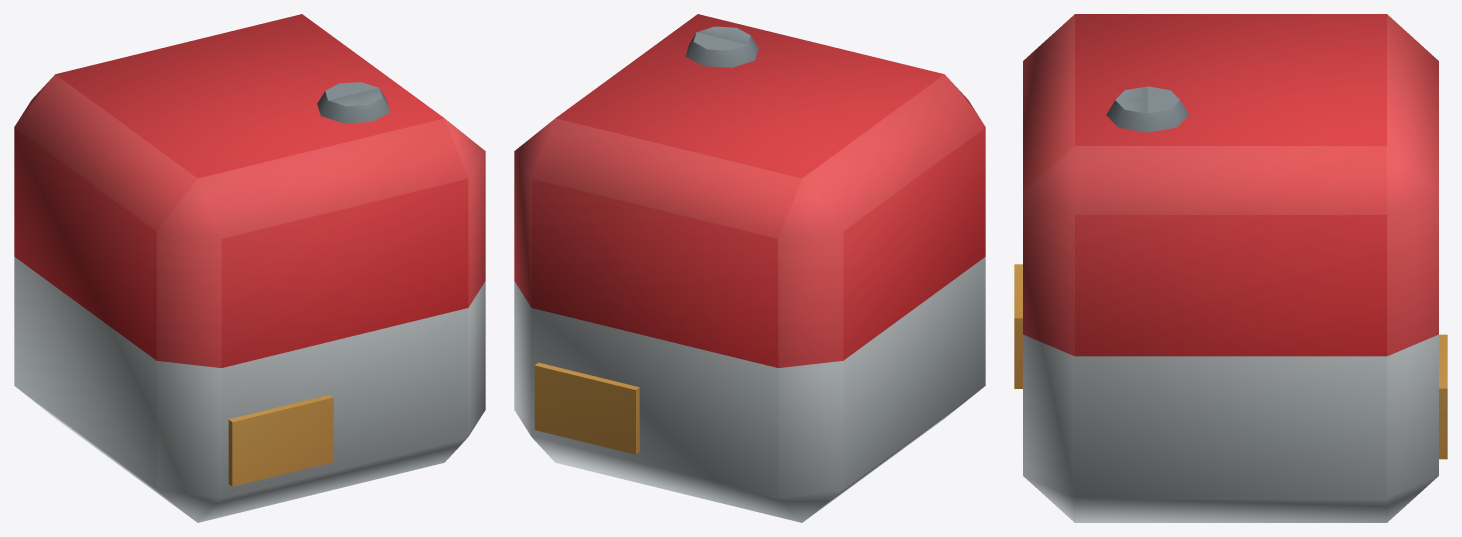
The model's file is cargo-container.glb.
3 views of the same model, side by side, from view 1: azimuth 30°, elevation 25°; view 2: azimuth 150°, elevation 25°; view 3: azimuth 270°, elevation 25° (orthographic). The views are drawn at different scales.
Parts seen in each view (by area): view 1: cargo_A; view 2: cargo_A; view 3: cargo_A.
Boxes of the visible parts, x1=… form: cargo_A: x1=14, y1=14, x2=485, y2=522; cargo_A: x1=514, y1=14, x2=985, y2=522; cargo_A: x1=1014, y1=14, x2=1447, y2=522.
Bounding box in the file's own units: 2.4 × 2.5 × 2.5.
1 material, 1 textured.
